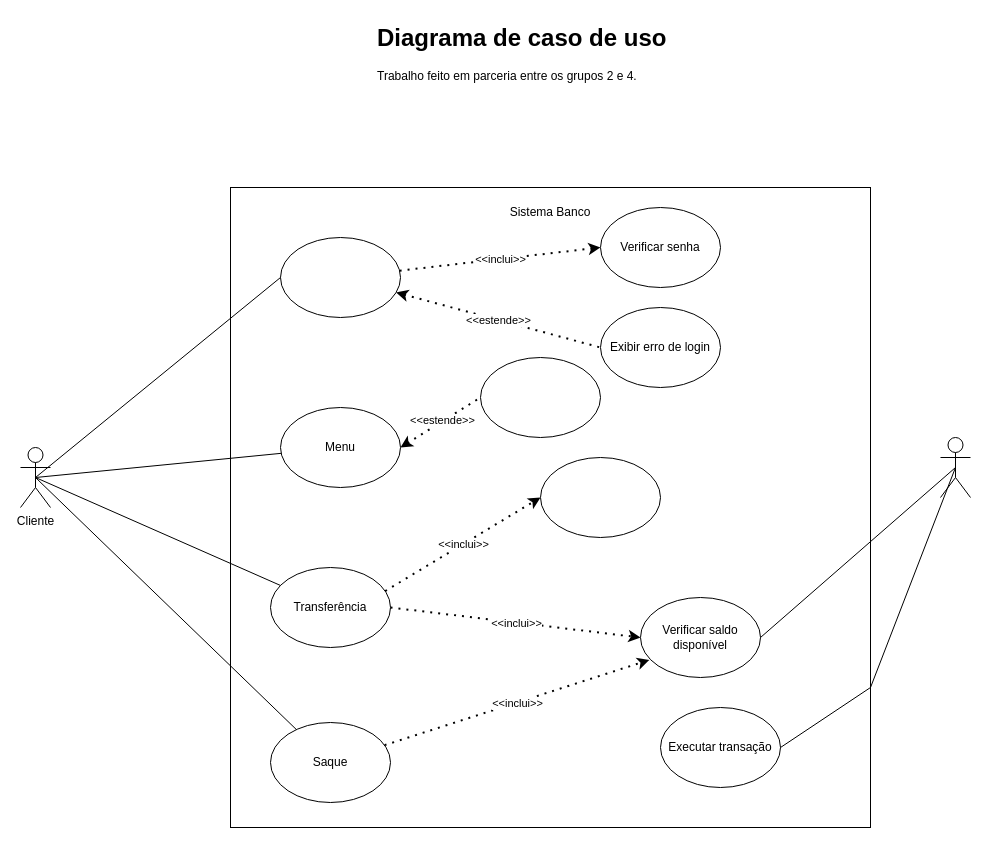
The diagram is 990 pixels wide and 845 high, and some of its shapes have lost their labels. The centre of each missing label's shape, as x and y in pixels:
Banco: the point at 955,467
Informar conta destino: the point at 600,497
Login: the point at 340,277
Submenu: the point at 540,397
